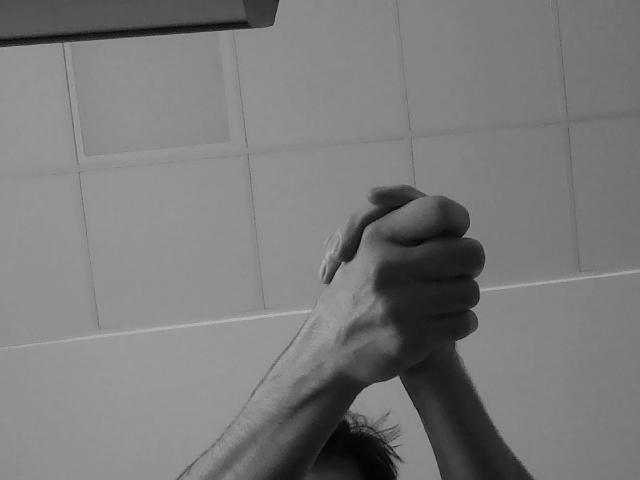friend: (269, 168, 492, 413)
